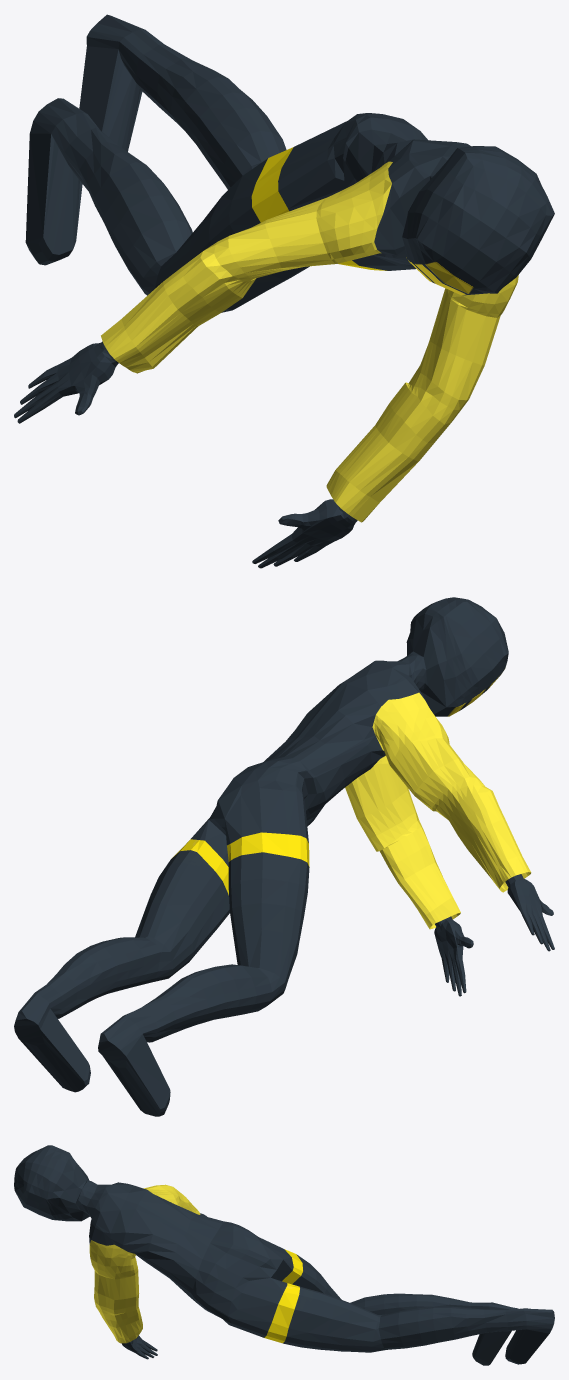
File: Sentry_Die_000012.obj
The picture shows the model from 3 angles, top to bottom: view 1: azimuth 30°, elevation 25°; view 2: azimuth 150°, elevation 25°; view 3: azimuth 270°, elevation 25°; orthographic projection. The views are drawn at different scales.
Parts seen in each view (by area): view 1: Cube; view 2: Cube; view 3: Cube.
Part boxes in pixels (x1,y1,x2,y2): Cube: [14, 14, 554, 568]; Cube: [14, 597, 554, 1116]; Cube: [14, 1145, 554, 1365].
Size of the model in its own units: 1.87 by 1.75 by 3.65.
